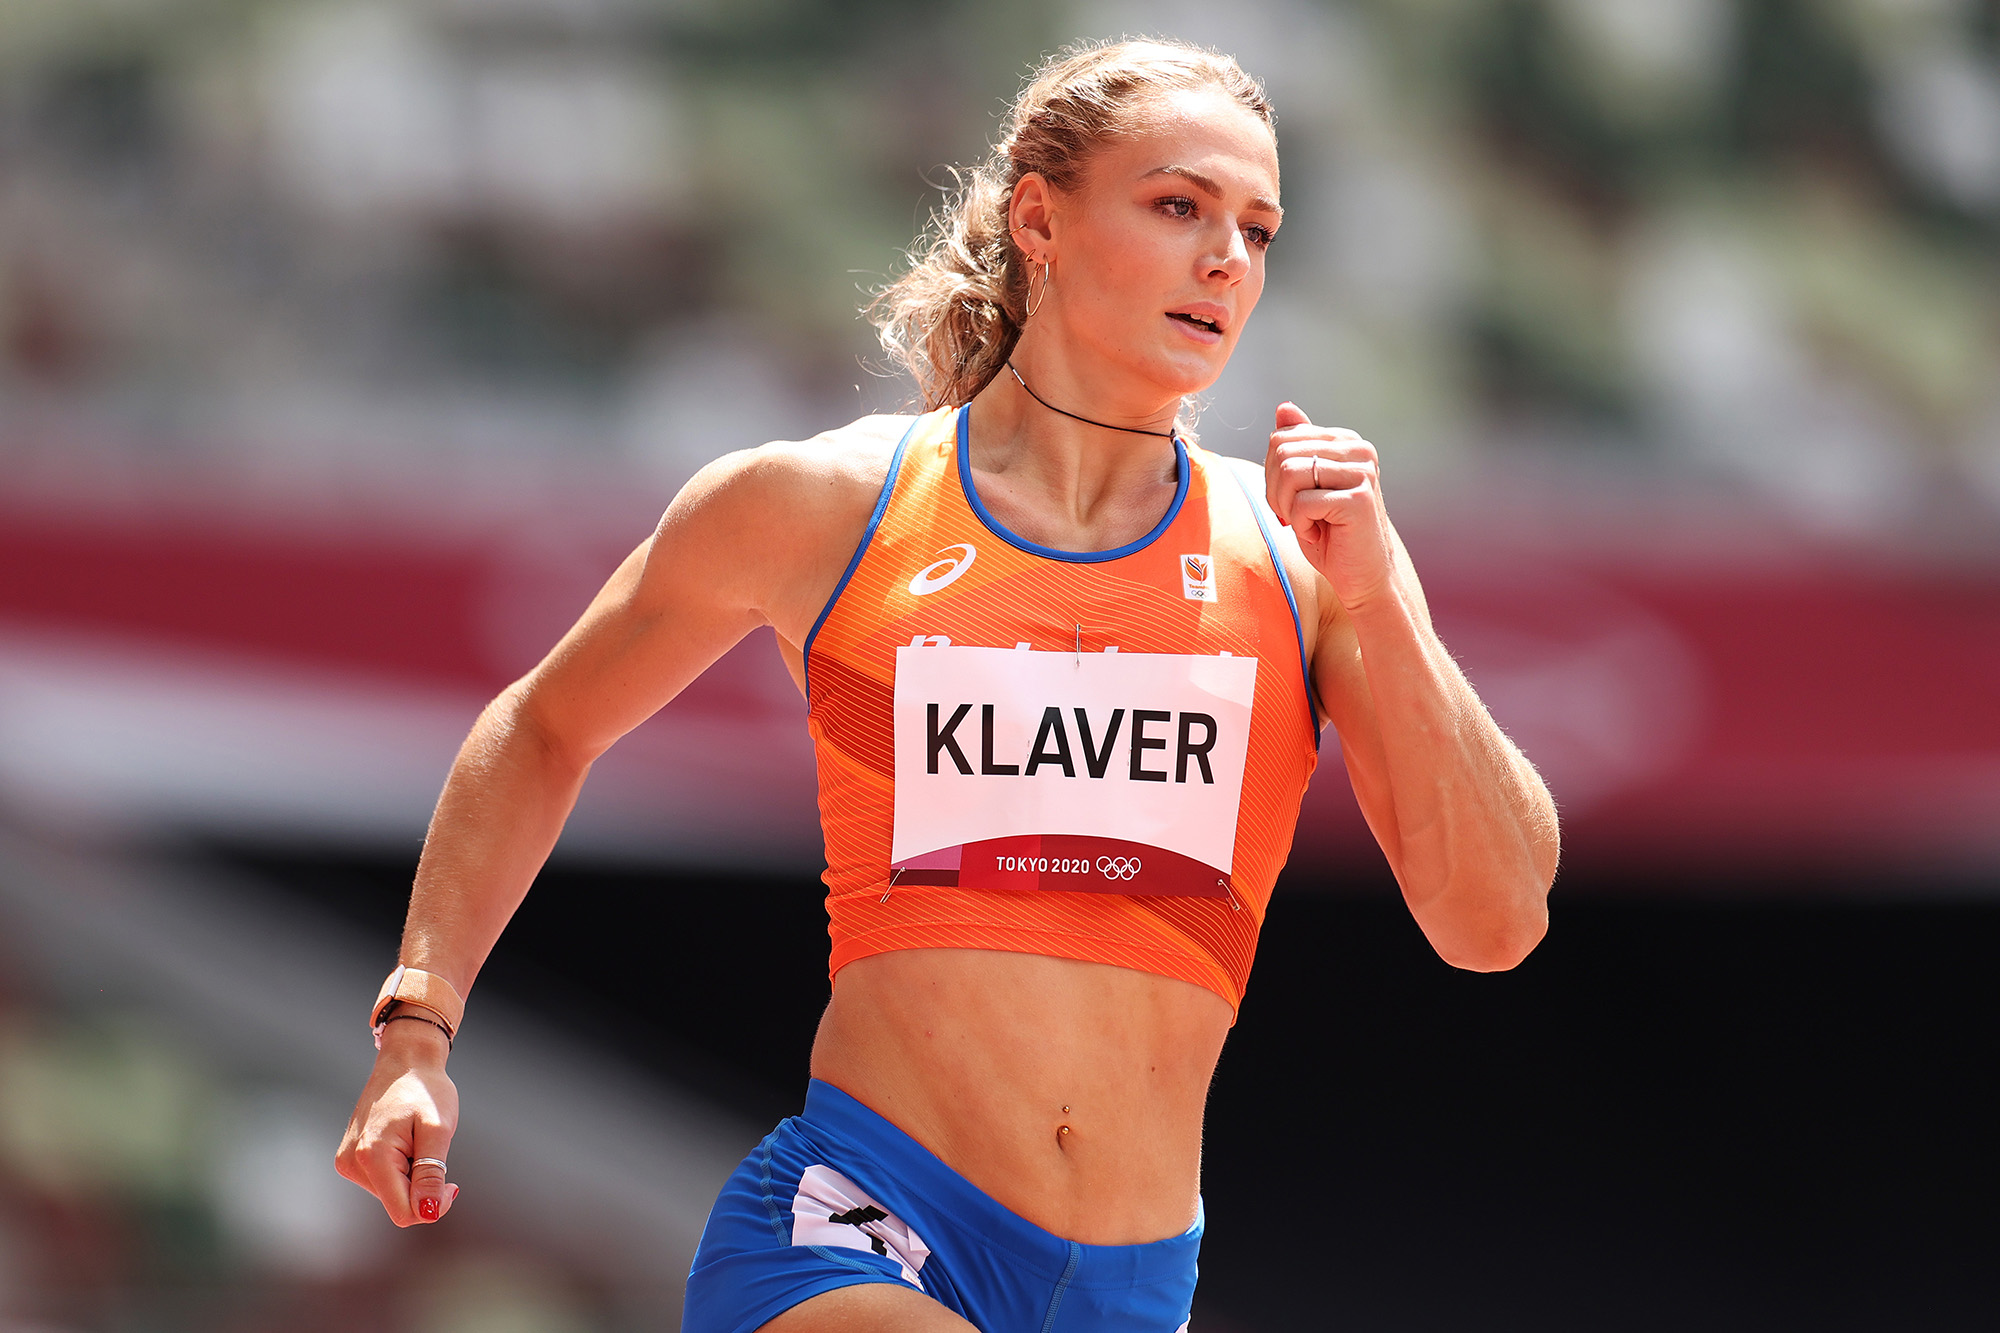runner: (333, 37, 1569, 1333)
